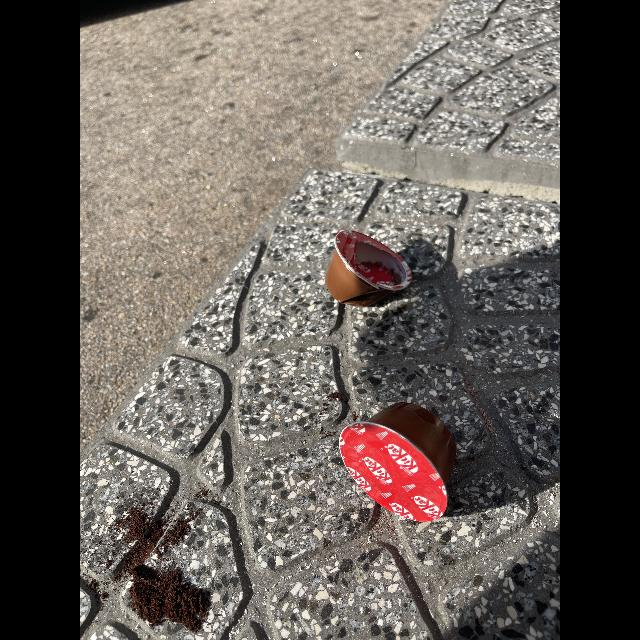damaged_capsule: (310, 226, 418, 312)
intact_capsule: (337, 396, 477, 536)
